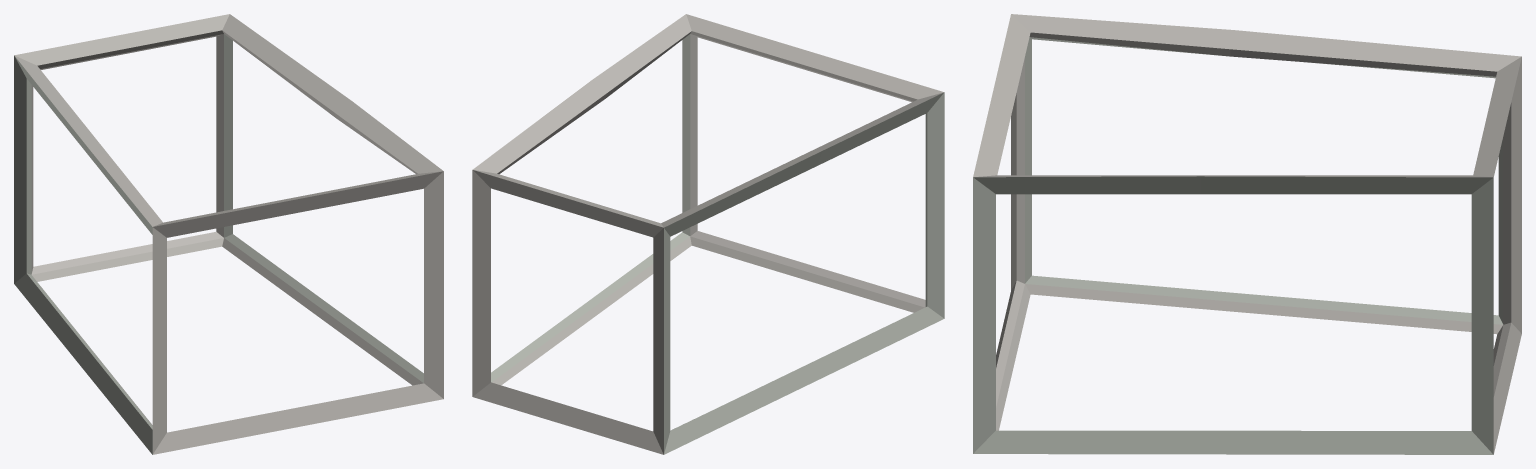
Rendered from hollow_floor.fbx.
3 views of the same model, side by side, from view 1: azimuth 30°, elevation 25°; view 2: azimuth 150°, elevation 25°; view 3: azimuth 270°, elevation 25° (orthographic). The views are drawn at different scales.
Parts seen in each view (by area): view 1: Cylinder; view 2: Cylinder; view 3: Cylinder.
Boxes of the visible parts, <box> form: Cylinder: <box>14,14,443,454</box>; Cylinder: <box>472,14,944,454</box>; Cylinder: <box>973,14,1521,454</box>.
Bounding box in the file's own units: 104 × 82.62 × 147.
1 material, 1 textured.
